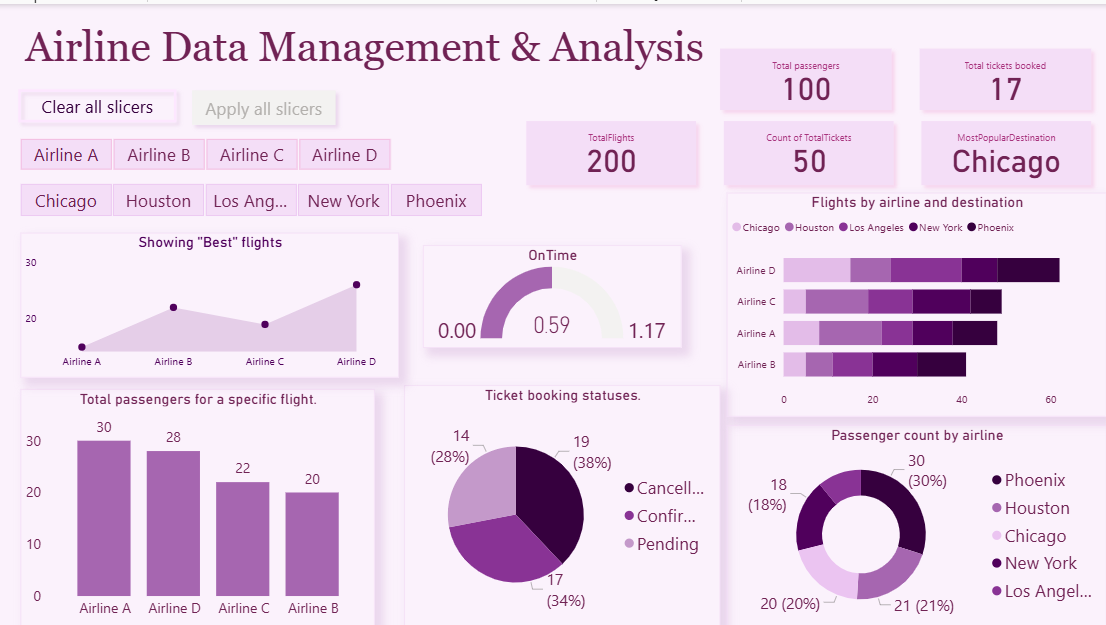

Layout of this report page (visuals, bound fields, positions):
{"tool":"powerbi","page":{"name":"Main Dashboard","canvas":[1280,720],"ordinal":0},"visuals":[{"type":"cardVisual","fields":{"Data":["Calculations Using DAX.Total passengers","Calculations Using DAX.Total tickets booked"]},"box":[816.6,34.6,463.1,105.3],"z":0},{"type":"cardVisual","fields":{"Data":["Calculations Using DAX.TotalFlights","CountNonNull(ticket_information.TotalTickets)","Calculations Using DAX.MostPopularDestination"]},"box":[593,118.3,686.8,108.2],"z":1000},{"type":"gauge","title":"OnTime","fields":{"Y":["Calculations Using DAX.OnTimePct"]},"box":[490.4,278.8,298.4,118.6],"z":2000},{"type":"pieChart","title":" Ticket booking statuses.","fields":{"Category":["ticket_information.BookingStatus"],"Y":["CountNonNull(ticket_information.BookingStatus)"]},"box":[468.3,440,364.4,280],"z":3000},{"type":"lineStackedColumnComboChart","title":"Total passengers for a specific flight.","fields":{"Category":["flight_information.Airline"],"Y":["Calculations Using DAX.Total passengers"]},"box":[25.7,443.9,408.4,276.4],"z":4000},{"type":"barChart","title":"Flights by airline and destination","fields":{"Category":["flight_information.Airline"],"Series":["flight_information.Destination"],"Y":["CountNonNull(flight_information.FlightID)"]},"box":[841.1,217.9,438.6,258.3],"z":5000},{"type":"donutChart","title":"Passenger count by airline ","fields":{"Category":["flight_information.Destination","flight_information.Airline"],"Y":["Calculations Using DAX.Total passengers"]},"box":[841.1,486.2,438.6,233.7],"z":6000},{"type":"slicer","title":"Destination and Airlines","fields":{"Values":["flight_information.Airline"]},"box":[0,148.6,581.4,47.6],"z":7000},{"type":"slicer","fields":{"Values":["flight_information.Destination"]},"box":[0,200.5,582.1,51.4],"z":8000},{"type":"textbox","box":[25.7,17.1,804.6,69.7],"z":9000},{"type":"areaChart","title":"Showing \"Best\" flights","fields":{"Category":["flight_information.Airline"],"Y":["Calculations Using DAX.Best Flight"],"Series":["flight_information.Flight Rating"]},"box":[25.7,264.1,436.6,167.5],"z":10000},{"type":"actionButton","box":[14.7,89.3,200.5,56.3],"z":11000}]}

Visuals, with their boxes in screenshot pixels (x1, y1, x2, y2), scaled from the page's 1280x720 canvas onto the 1106x625 screenshot:
cardVisual - Calculations Using DAX.Total passengers x Calculations Using DAX.Total tickets booked: [x1=706, y1=30, x2=1105, y2=121]
cardVisual - Calculations Using DAX.TotalFlights x CountNonNull(ticket_information.TotalTickets): [x1=512, y1=103, x2=1105, y2=197]
"OnTime" gauge: [x1=424, y1=242, x2=682, y2=345]
" Ticket booking statuses." pieChart: [x1=405, y1=382, x2=720, y2=624]
"Total passengers for a specific flight." lineStackedColumnComboChart: [x1=22, y1=385, x2=375, y2=624]
"Flights by airline and destination" barChart: [x1=727, y1=189, x2=1105, y2=413]
"Passenger count by airline " donutChart: [x1=727, y1=422, x2=1105, y2=624]
"Destination and Airlines" slicer: [x1=0, y1=129, x2=502, y2=170]
slicer - flight_information.Destination: [x1=0, y1=174, x2=503, y2=219]
textbox: [x1=22, y1=15, x2=717, y2=75]
"Showing "Best" flights" areaChart: [x1=22, y1=229, x2=399, y2=375]
actionButton: [x1=13, y1=78, x2=186, y2=126]
